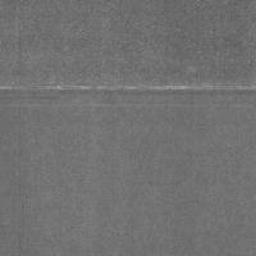Welding line: (0, 85, 256, 91)
